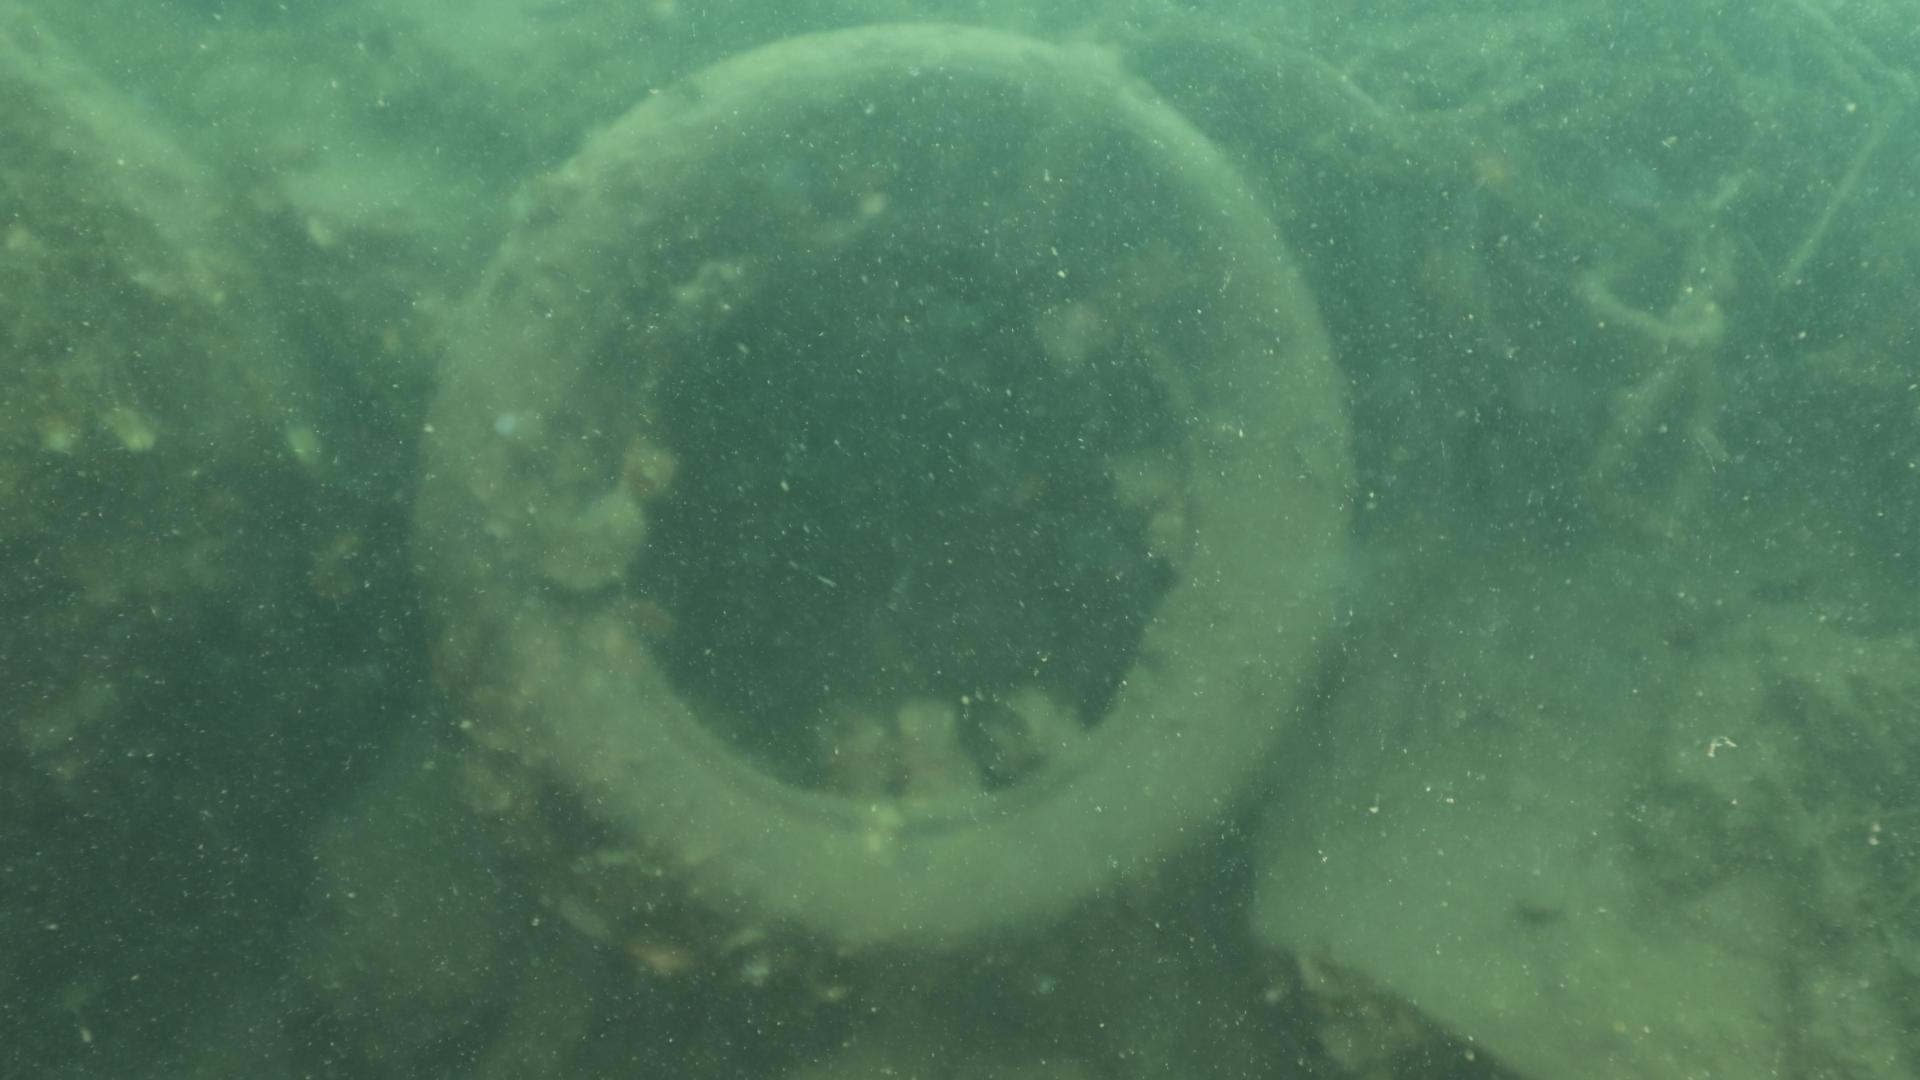tire: (404, 16, 1354, 1010)
